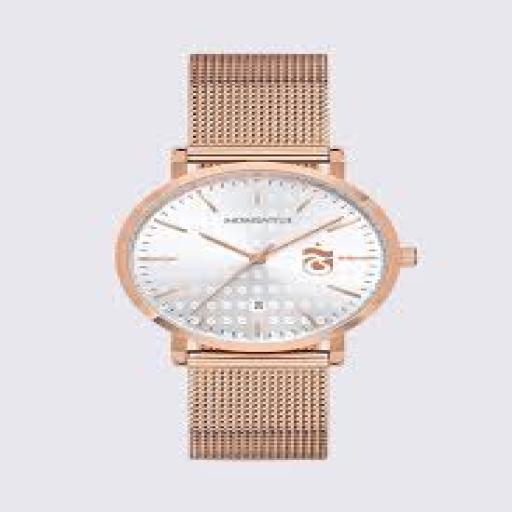KolSaati: (83, 18, 423, 472)
